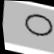no answer: (20, 10, 54, 41)
